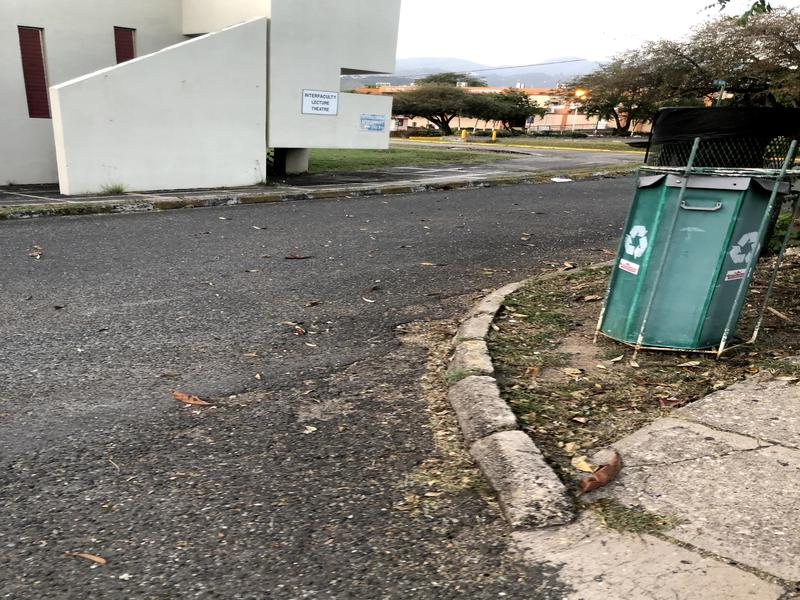18.0053245_-76.7486424_recyclebin: (588, 152, 800, 408)
